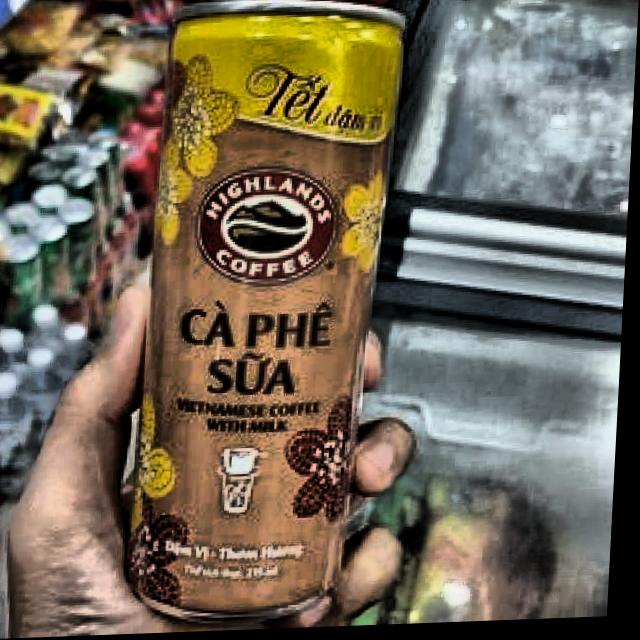can: (125, 0, 410, 634), (56, 196, 100, 296), (32, 213, 76, 294), (2, 233, 46, 306), (60, 158, 104, 200), (12, 197, 51, 226), (35, 182, 72, 211)
